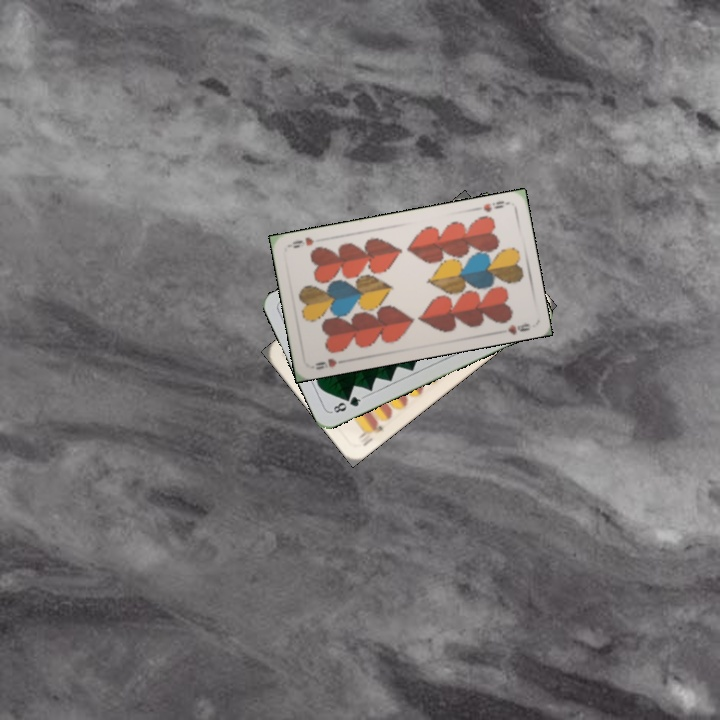E10: (354, 418, 386, 449)
G8: (328, 392, 366, 416)
H9: (311, 354, 349, 372), (479, 197, 506, 215)
